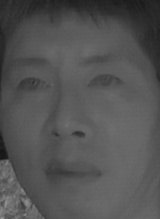eye: (84, 70, 124, 95), (13, 74, 51, 95)
mouth: (46, 153, 104, 192)
